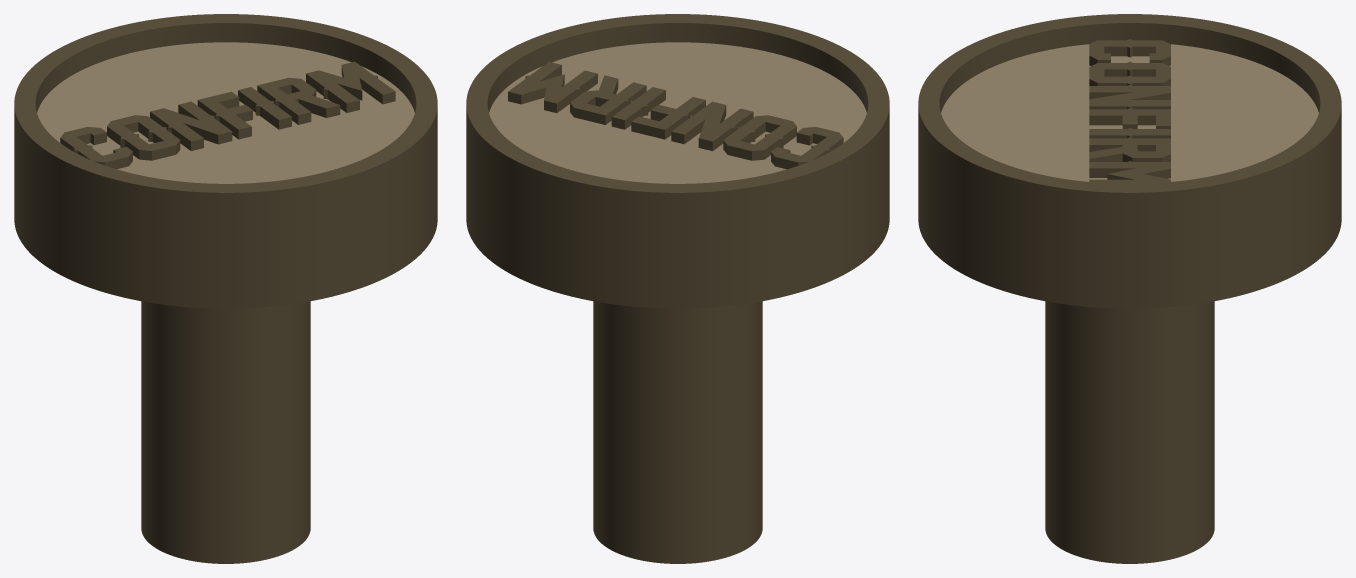
Rendered from Confirm Button.fbx.
The picture shows the model from 3 angles, left to right: view 1: azimuth 30°, elevation 25°; view 2: azimuth 150°, elevation 25°; view 3: azimuth 270°, elevation 25°; orthographic projection.
Parts seen in each view (by area): view 1: Cylinder, Cylinder.002, Circle, Text.003; view 2: Cylinder, Cylinder.002, Circle, Text.003; view 3: Cylinder, Cylinder.002, Circle, Text.003.
Boxes of the visible parts, bbox=[...] form: Cylinder: bbox=[14, 14, 437, 308]; Cylinder.002: bbox=[141, 301, 310, 563]; Circle: bbox=[37, 42, 414, 183]; Text.003: bbox=[60, 61, 395, 169]; Cylinder: bbox=[466, 14, 889, 308]; Cylinder.002: bbox=[593, 301, 762, 563]; Circle: bbox=[489, 42, 866, 183]; Text.003: bbox=[508, 61, 843, 169]; Cylinder: bbox=[918, 14, 1341, 308]; Cylinder.002: bbox=[1045, 301, 1214, 563]; Circle: bbox=[941, 44, 1318, 181]; Text.003: bbox=[1089, 39, 1170, 183].
Size of the model in its own units: 199 by 220 by 199.
